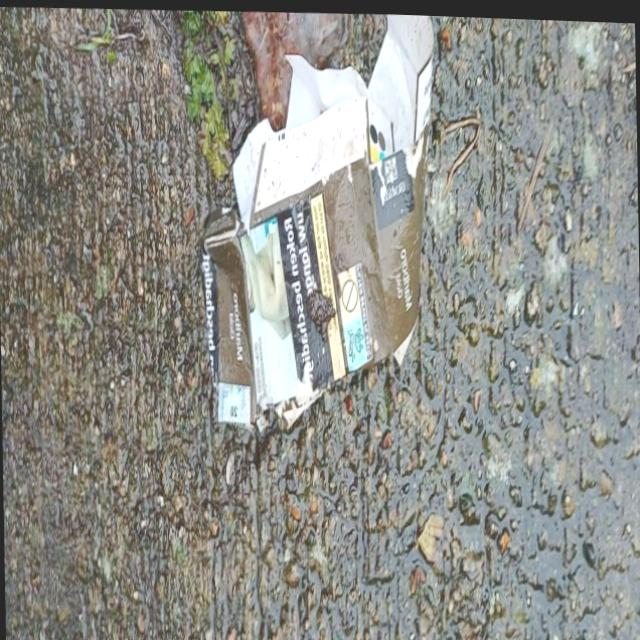Paper: (193, 6, 443, 447)
